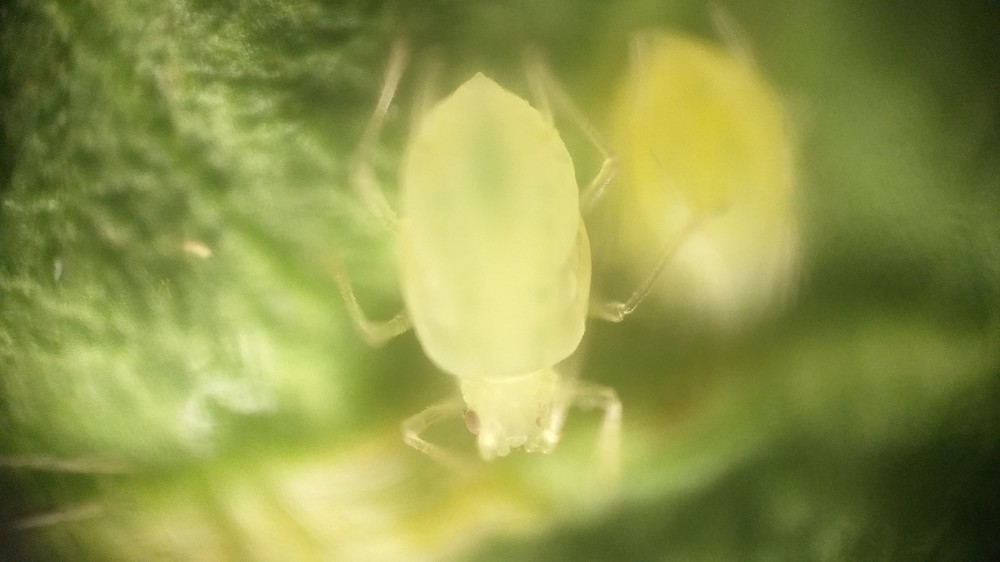Pulgon: (333, 55, 667, 513)
